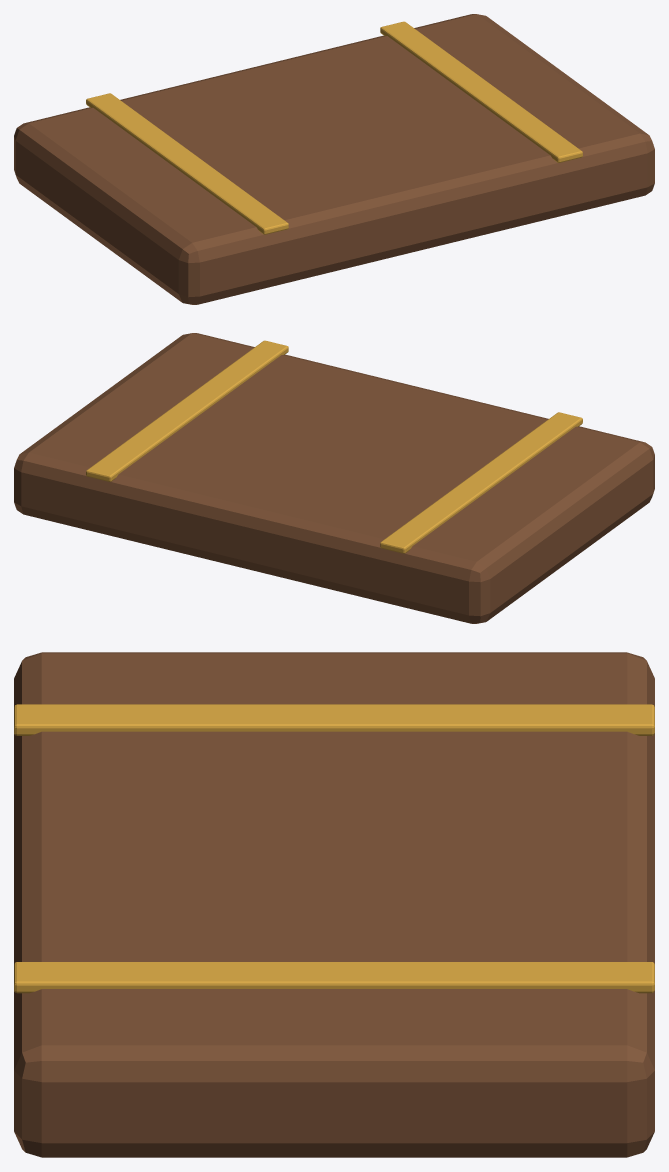
The model's file is ChestLid.glb.
3 views of the same model, one above another, from view 1: azimuth 30°, elevation 25°; view 2: azimuth 150°, elevation 25°; view 3: azimuth 270°, elevation 25° (orthographic). The views are drawn at different scales.
Visible parts, largest first — view 1: ChestLid; view 2: ChestLid; view 3: ChestLid.
Part boxes in pixels (left/top/right/bottom): ChestLid: left=14, top=14, right=654, bottom=304; ChestLid: left=14, top=333, right=654, bottom=623; ChestLid: left=14, top=652, right=654, bottom=1157.
Size of the model in its own units: 0.92 by 0.1215 by 0.6.
